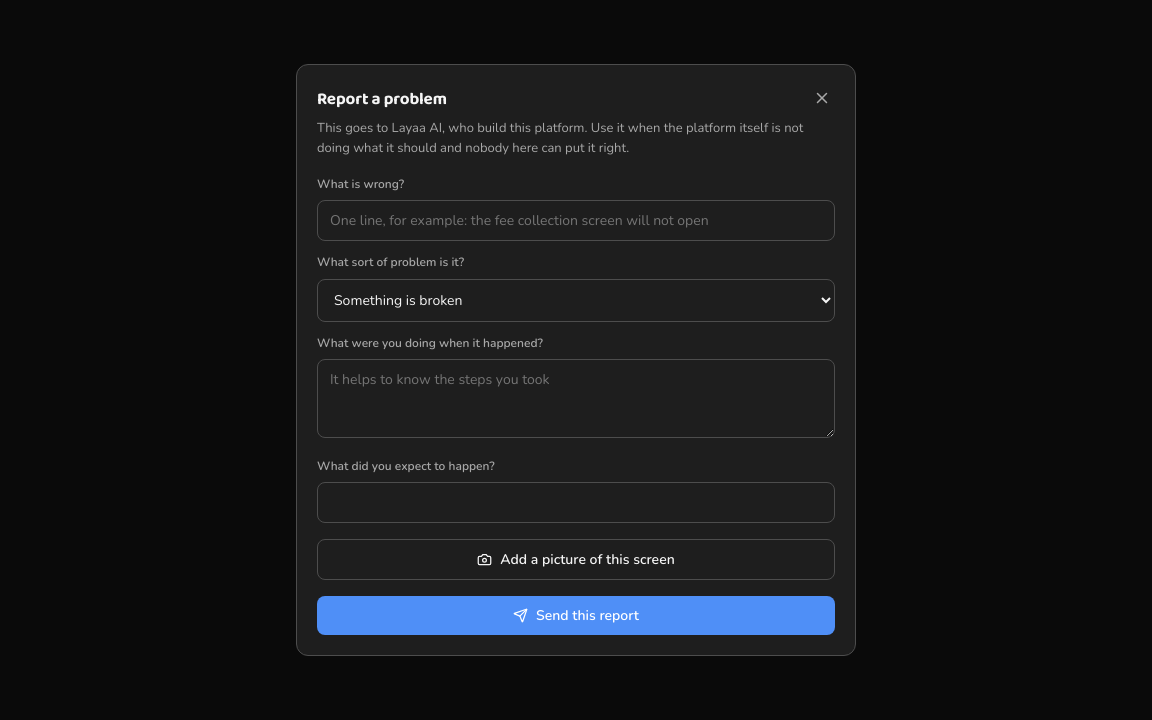
Test: reporting a problem › shows the reference back, so nothing is reported silently
Step 1. Replace the text in the field labelled "What is wrong?" with "The fee collection screen will not open" → (576, 221), box [317,200,835,241]
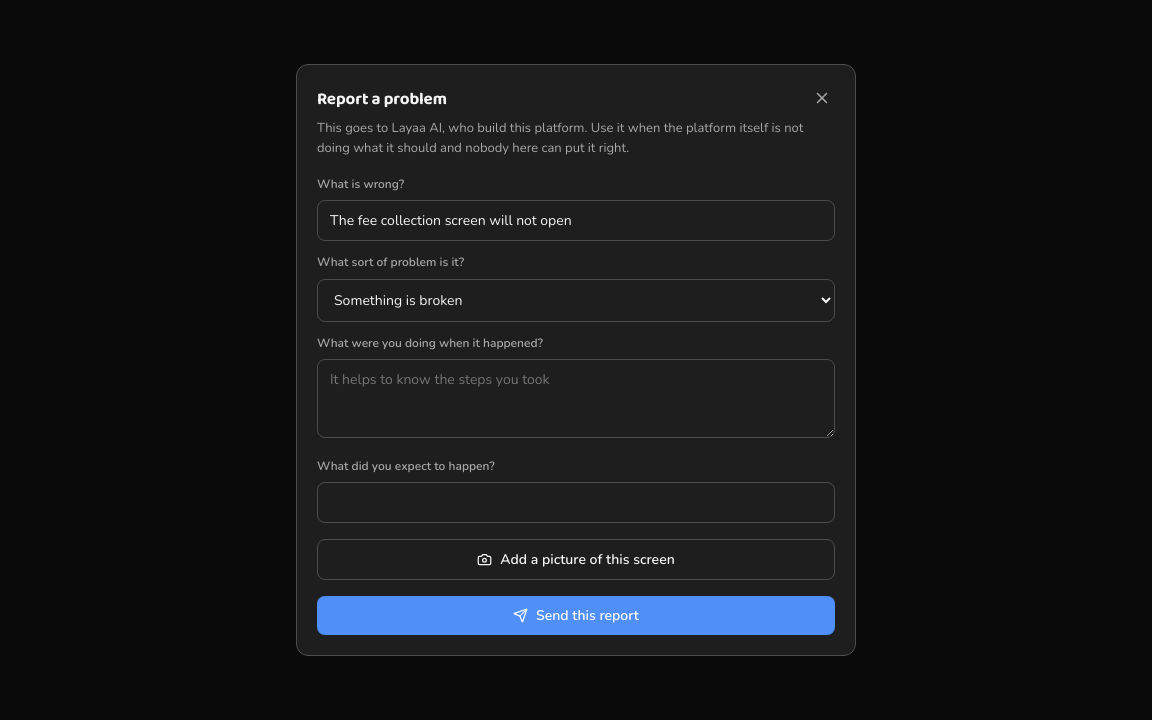
Step 2. Click the button "Send this report" → (576, 616), box [317,596,835,635]
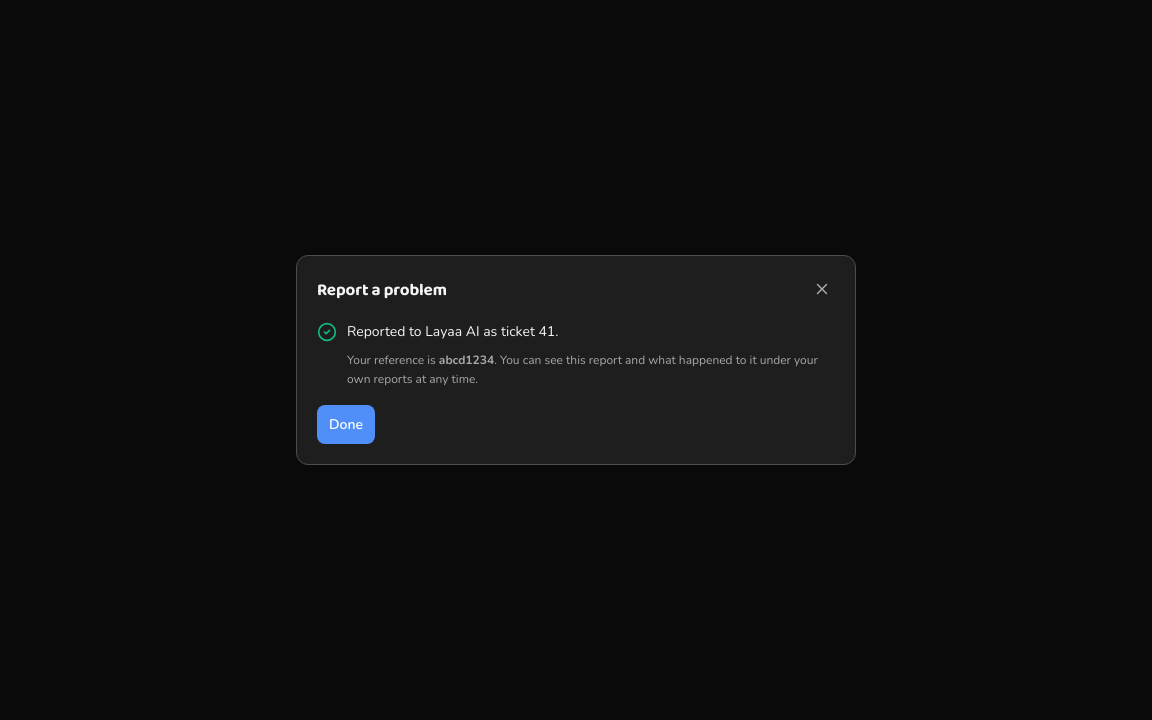
expect the text "Reported to Layaa AI as ticket 41." is shown: met, box [347,322,558,341]
expect the text "abcd1234" is shown: met, box [439,352,494,368]
